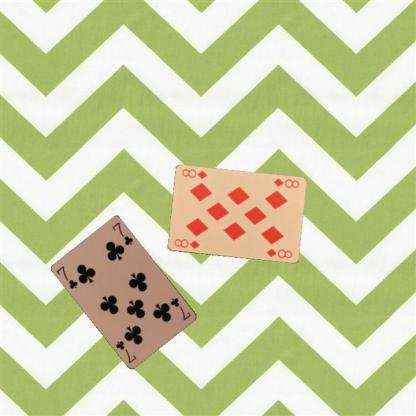7c: (168, 295, 193, 322), (54, 264, 79, 290)
8d: (271, 176, 300, 190), (172, 236, 200, 250)
